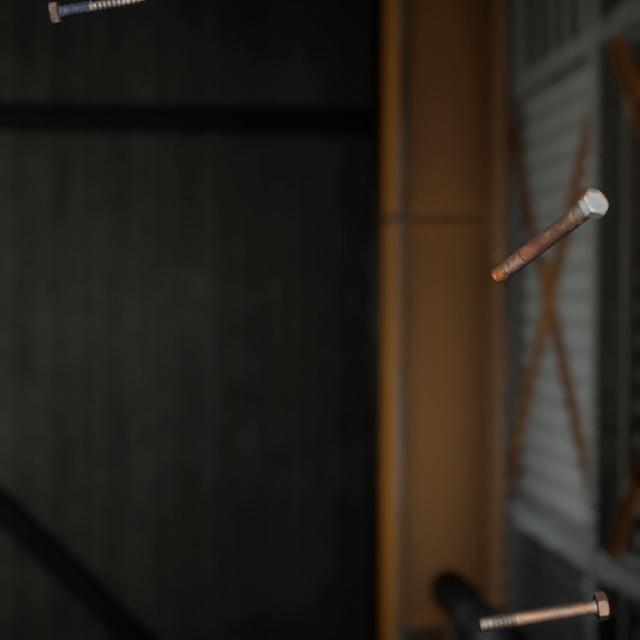bolt: (486, 167, 613, 272), (473, 563, 614, 612), (43, 0, 129, 22)
